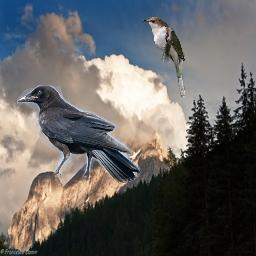Crow: (17, 85, 140, 183)
Cuckoo: (141, 16, 185, 98)
